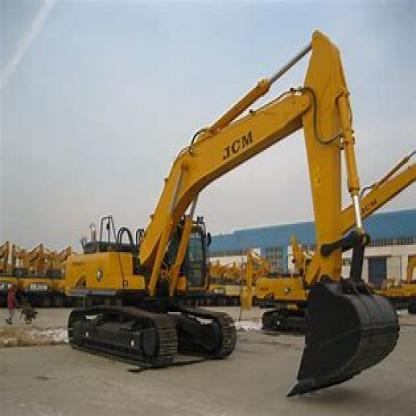excavator: (58, 27, 403, 404)
